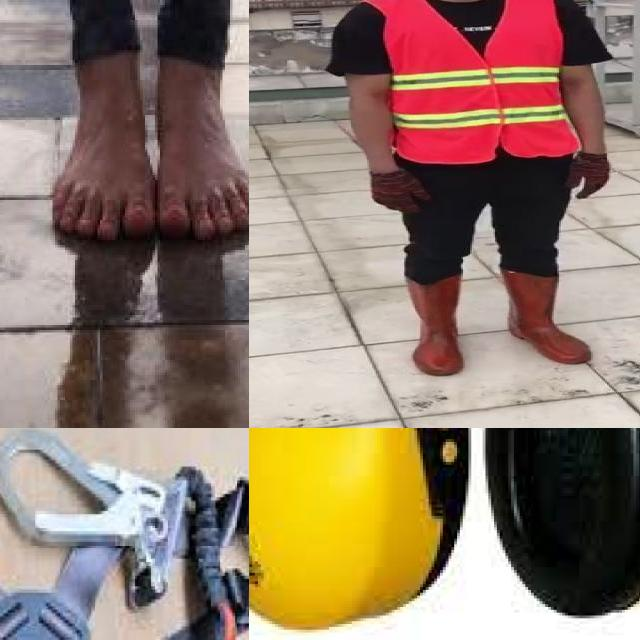Barefoots: (48, 4, 150, 249), (156, 9, 249, 249)
Ear-protection: (249, 428, 640, 633)
Harness: (0, 428, 249, 640)
boots: (502, 270, 591, 363), (402, 273, 468, 378)
person: (329, 0, 630, 379)
vest: (379, 0, 573, 162)
